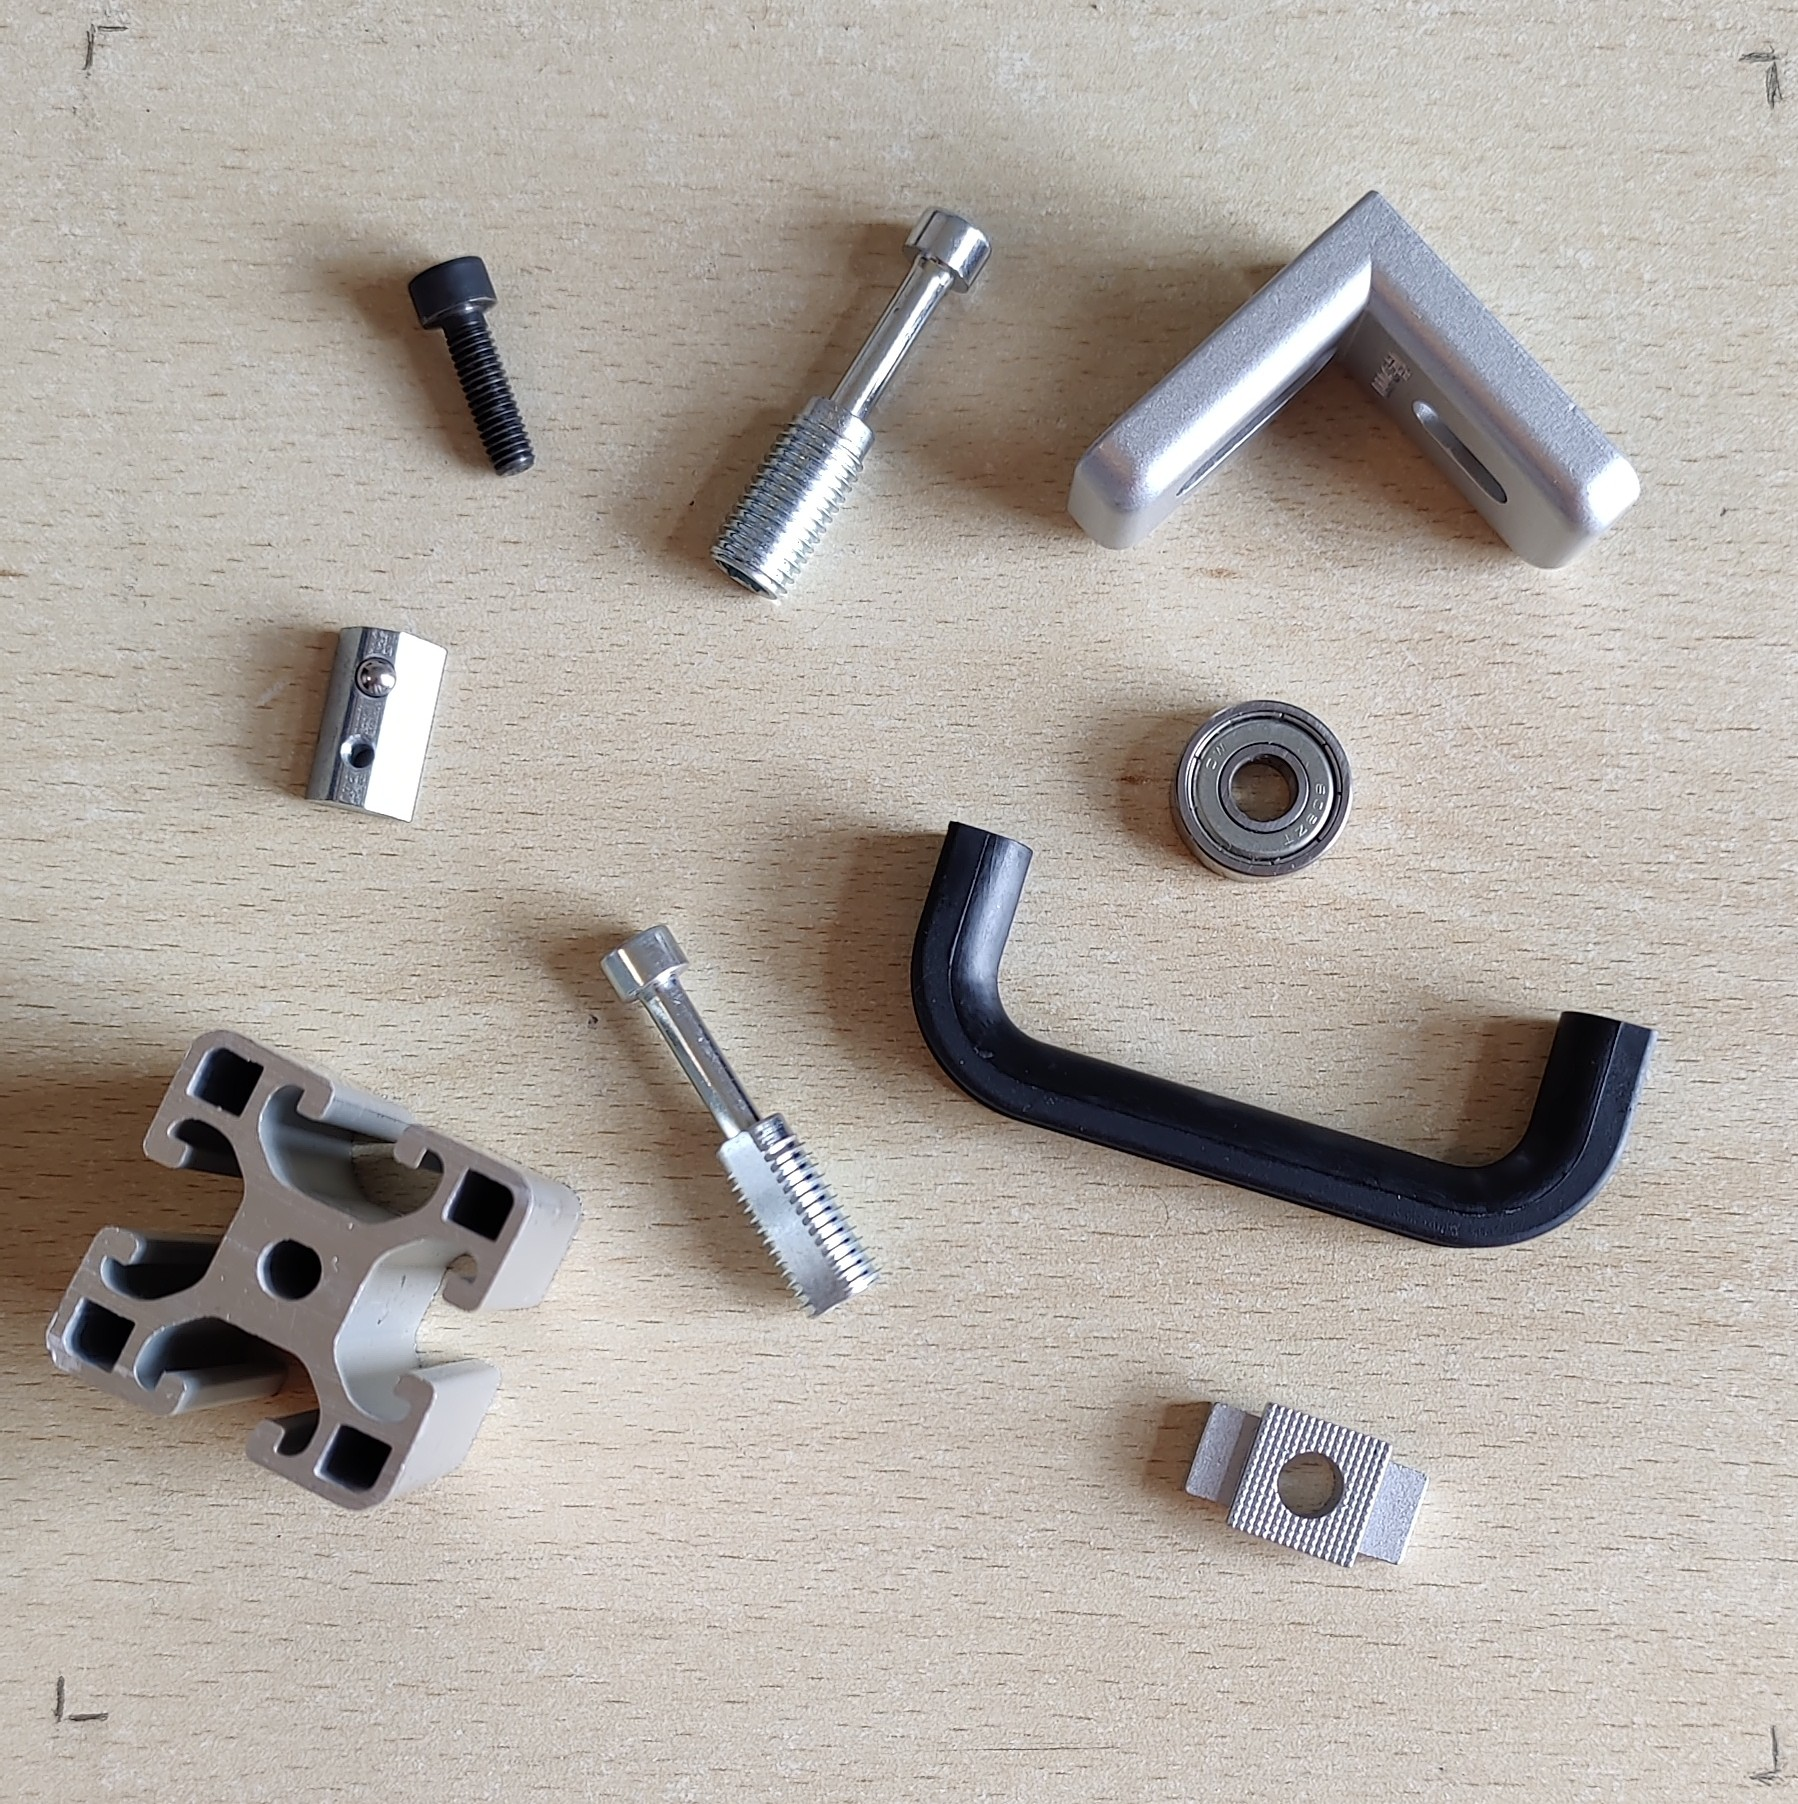Aluminium Extension: (43, 1029, 585, 1514)
Ball Bearing: (1166, 696, 1352, 886)
Multiwinkel: (1060, 184, 1643, 571)
Pull Handle: (907, 818, 1660, 1253)
Shoulder Socket Head Cap Screw: (596, 918, 884, 1322), (706, 204, 993, 604)
Socket Head Cap Screw: (407, 252, 537, 479)
T Nut Square: (1181, 1399, 1429, 1574)
T Spring Nut: (301, 622, 448, 826)
